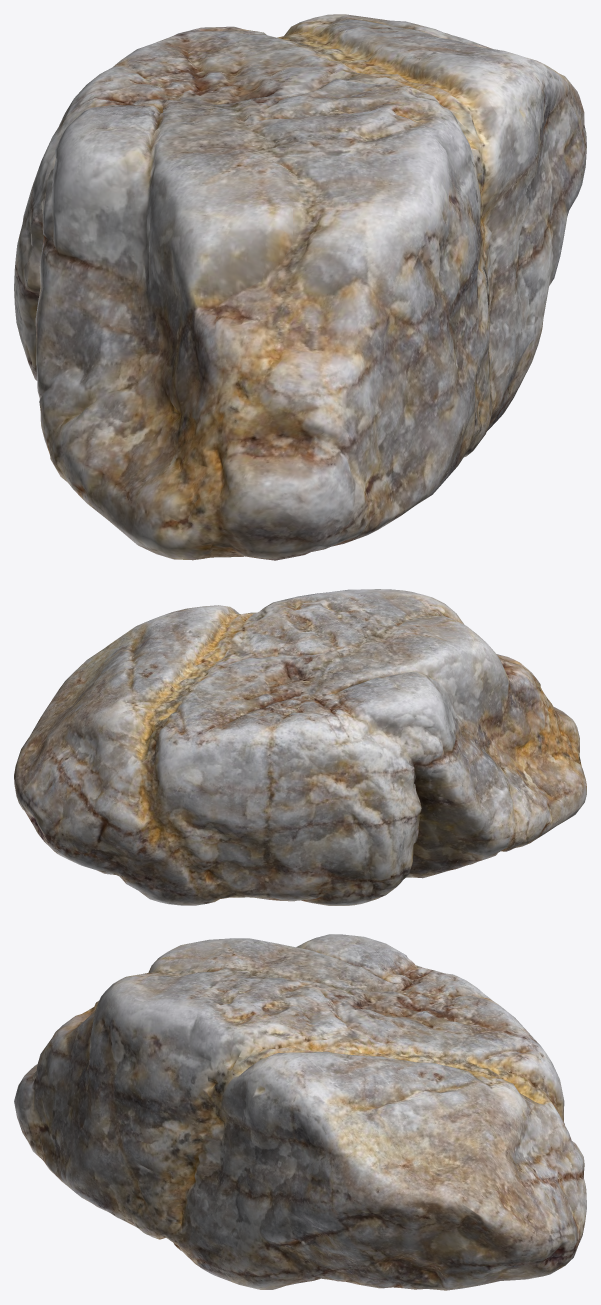
3 renders of one model, top to bottom at view 1: azimuth 30°, elevation 25°; view 2: azimuth 150°, elevation 25°; view 3: azimuth 270°, elevation 25°, orthographic. The views are drawn at different scales.
Parts seen in each view (by area): view 1: rock-009; view 2: rock-009; view 3: rock-009.
Part boxes in pixels (left/top/right/bottom): rock-009: left=14, top=14, right=586, bottom=560; rock-009: left=14, top=589, right=586, bottom=905; rock-009: left=14, top=934, right=586, bottom=1290.
Size of the model in its own units: 1.86 by 1.01 by 2.
1 material, 1 textured.
